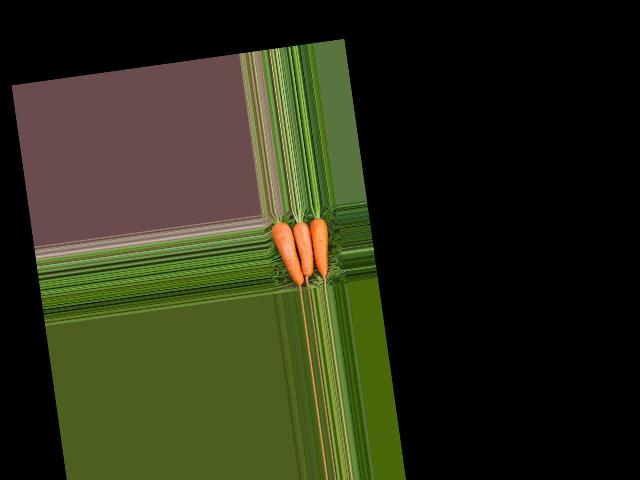carrot: (269, 219, 304, 288)
